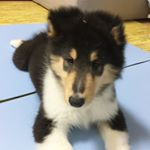puppy: (31, 4, 132, 150)
